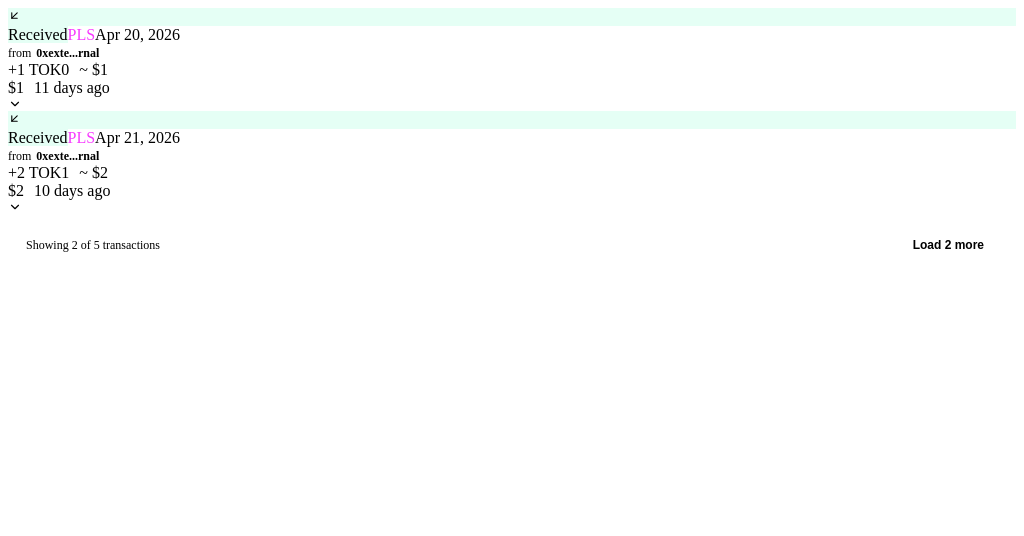
it: TransactionList › renders large ledgers progressively when an initial window is provided
This screenshot has width=1024, height=536.
Expected: the text "Showing 2 of 5 transactions" is shown, [26,238,160,252]
Expected: the button with aria-label "open source details for tok0 amount" is shown, [8,61,79,79]
Click the button "Load 2 more" at (948, 245), box [899,230,998,260]
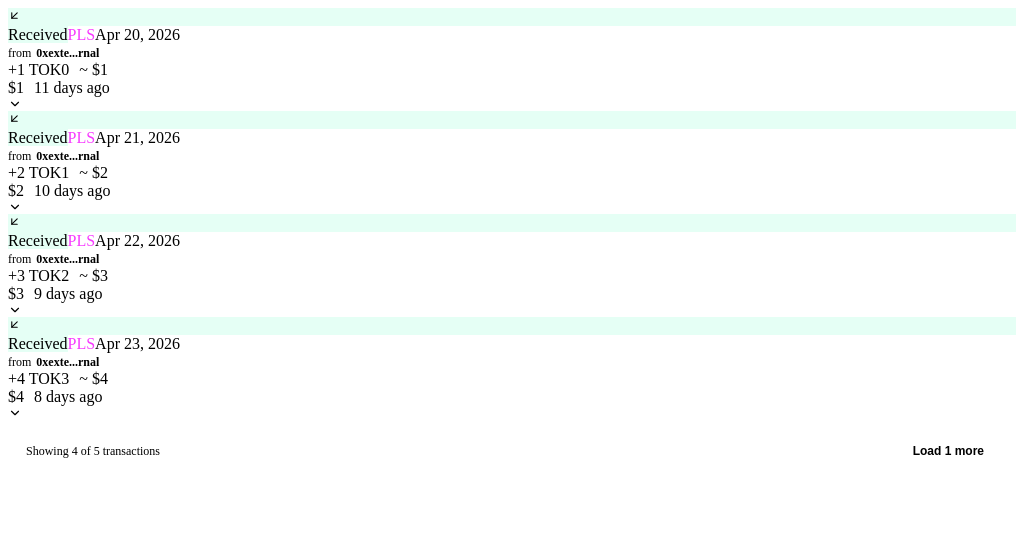
Expected: the text "Showing 4 of 5 transactions" is shown, [26,444,160,458]
Expected: the button with aria-label "open source details for tok3 amount" is shown, [8,370,79,388]
Click the button "Load 1 more" at (948, 451), box [899,436,998,466]
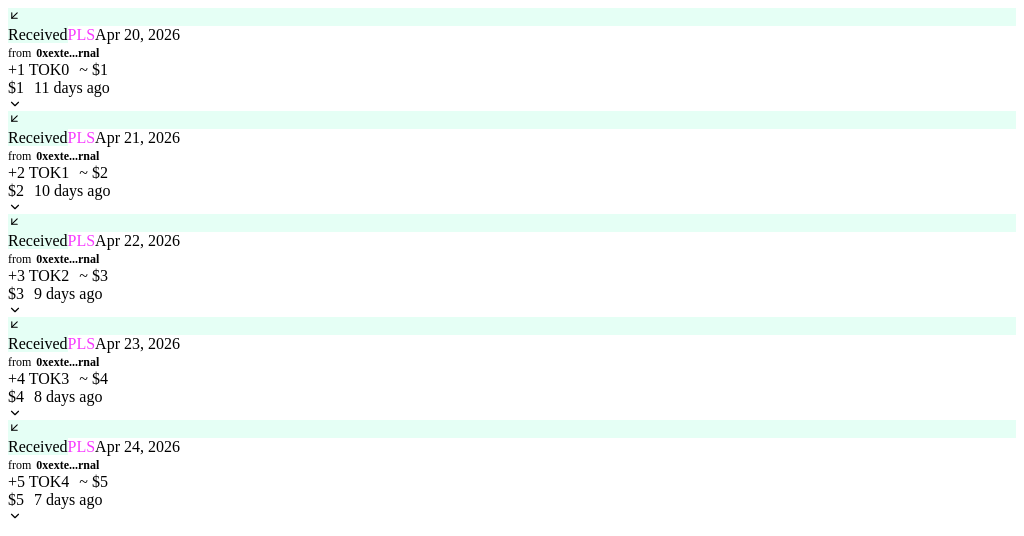
Expected: the button with aria-label "open source details for tok4 amount" is shown, [8,473,79,491]
Expected: the text "Showing 4 of 5 transactions" is gone
